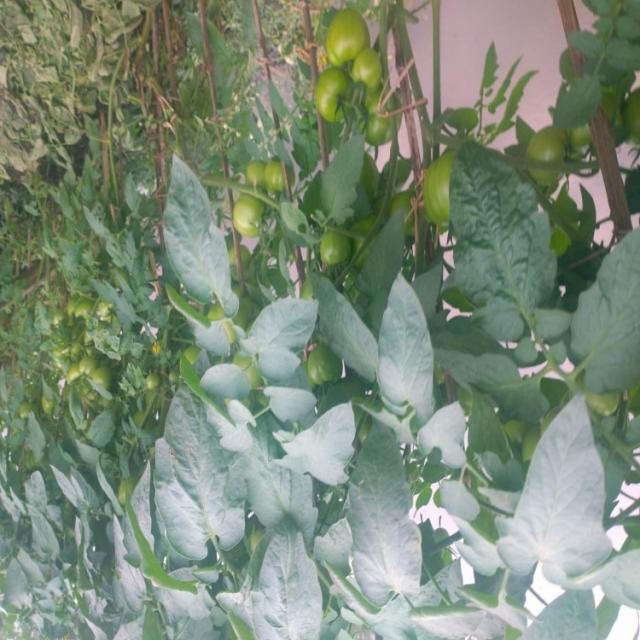tomato: (407, 131, 477, 231), (289, 338, 347, 400), (524, 128, 579, 184), (232, 193, 283, 250), (351, 34, 394, 98), (365, 102, 411, 160), (324, 10, 379, 57), (262, 148, 315, 195), (61, 273, 101, 328), (308, 65, 348, 111), (617, 89, 640, 160), (312, 225, 353, 260), (83, 362, 120, 400), (62, 340, 101, 376), (242, 155, 262, 181), (146, 364, 162, 392)
